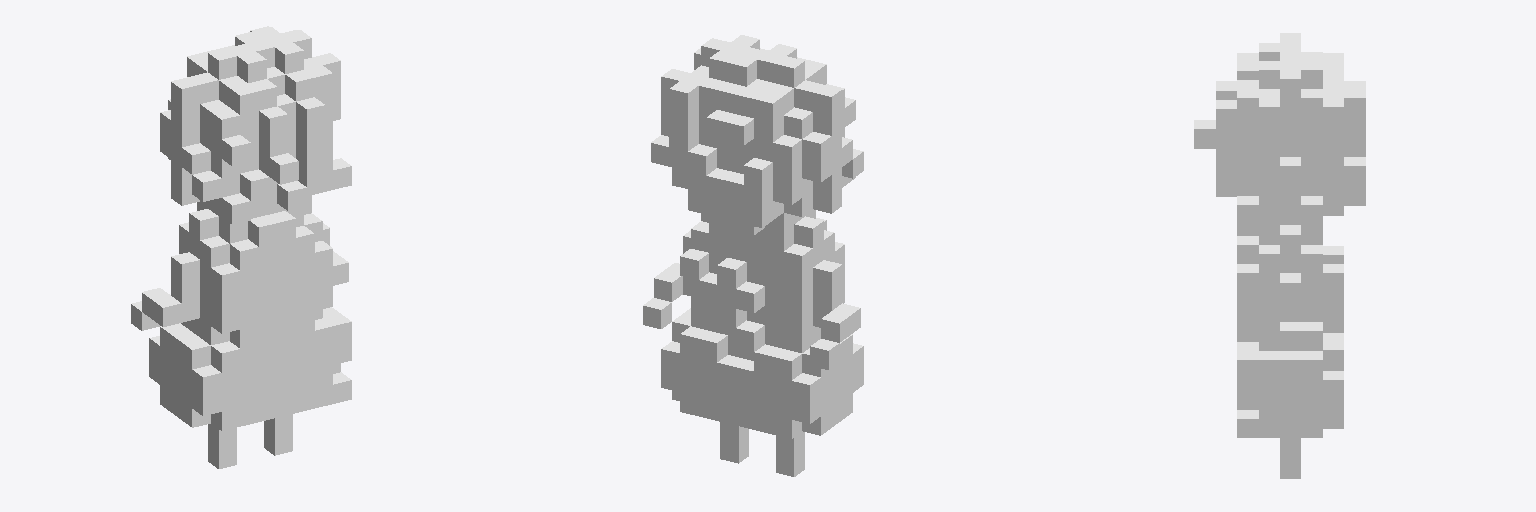
The model's file is Docteur.obj.
3 renders of one model, left to right at view 1: azimuth 30°, elevation 25°; view 2: azimuth 150°, elevation 25°; view 3: azimuth 270°, elevation 25°, orthographic.
Visible parts, largest first — view 1: object 1; view 2: object 1; view 3: object 1.
Part boxes in pixels (x1,y1,x2,y2): object 1: (131,26,351,468); object 1: (643,35,863,476); object 1: (1194,33,1365,478).
Size of the model in its own units: 1 by 2.1 by 0.8.